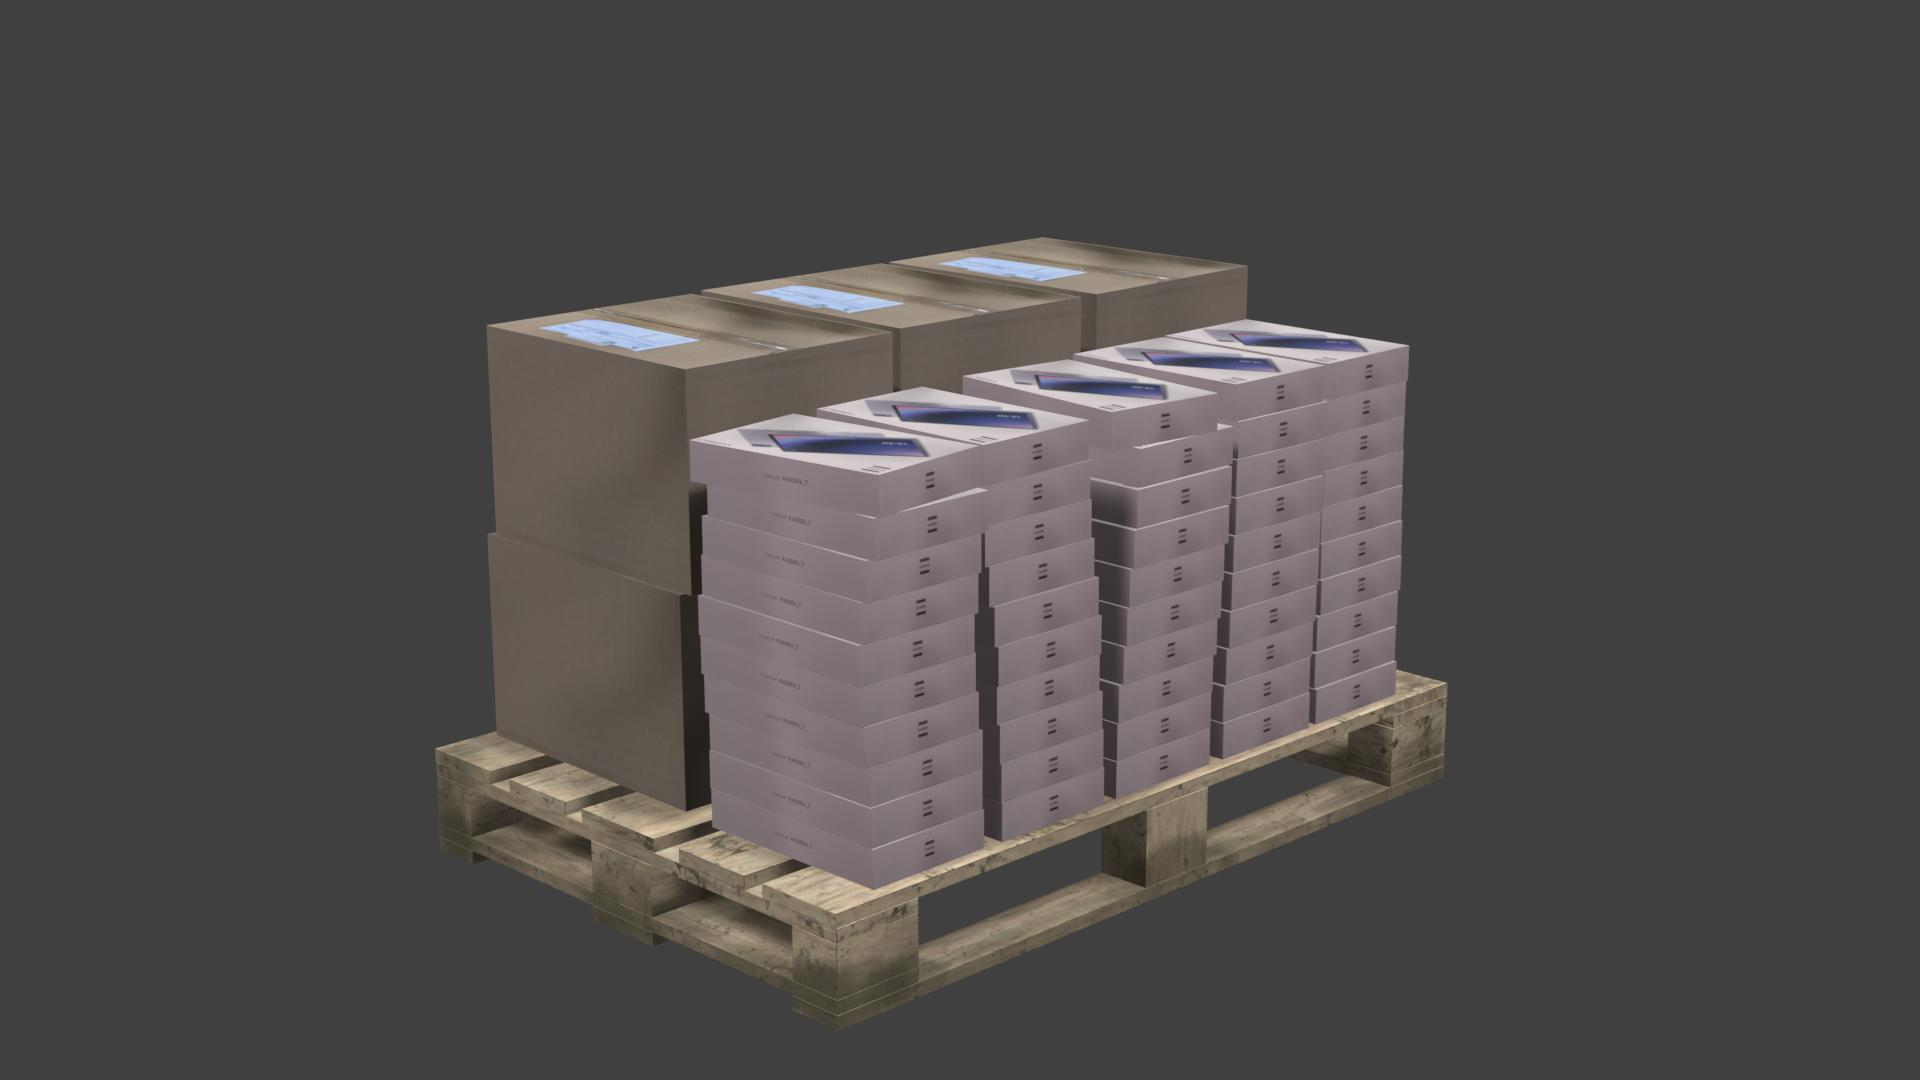group_box_left: (488, 326, 893, 596), (488, 535, 711, 812), (893, 298, 1080, 393), (1081, 266, 1247, 351)
group_box_top: (488, 291, 889, 368), (705, 262, 1079, 331), (891, 237, 1247, 294)
palet: (435, 669, 1449, 1033)
tablet_left: (709, 750, 984, 849), (712, 791, 984, 890), (704, 676, 980, 769), (702, 555, 978, 646), (699, 596, 976, 687), (700, 637, 976, 728), (709, 717, 984, 807), (703, 516, 982, 603), (691, 440, 980, 518), (707, 485, 989, 562), (964, 380, 1217, 450), (1092, 467, 1232, 529), (1093, 505, 1229, 568), (1091, 427, 1233, 487), (1096, 545, 1224, 608), (980, 539, 1096, 608), (1100, 618, 1217, 686), (1101, 655, 1213, 724), (1100, 583, 1221, 646), (998, 691, 1104, 764), (993, 578, 1100, 649), (1001, 729, 1104, 803), (1001, 770, 1104, 843), (1105, 729, 1209, 800), (998, 616, 1101, 687), (996, 655, 1100, 725), (984, 500, 1092, 567), (1105, 694, 1211, 762), (980, 421, 1089, 485), (984, 460, 1091, 525), (1211, 694, 1309, 761), (1213, 621, 1313, 686), (1212, 658, 1309, 723), (1217, 585, 1316, 649), (1221, 550, 1319, 612), (1225, 513, 1320, 574), (1230, 476, 1323, 535), (1311, 626, 1396, 690), (1233, 438, 1324, 497), (1309, 662, 1395, 724), (1313, 591, 1398, 653), (1234, 402, 1325, 459), (1319, 555, 1400, 616), (1320, 521, 1403, 580), (1236, 367, 1324, 422), (1321, 485, 1402, 543), (1324, 451, 1403, 509), (1325, 417, 1404, 472), (1325, 382, 1406, 436), (1325, 347, 1408, 398)
tablet_top: (694, 414, 977, 476), (819, 385, 1088, 446), (963, 359, 1216, 414), (1083, 336, 1324, 388), (1166, 318, 1410, 364)
